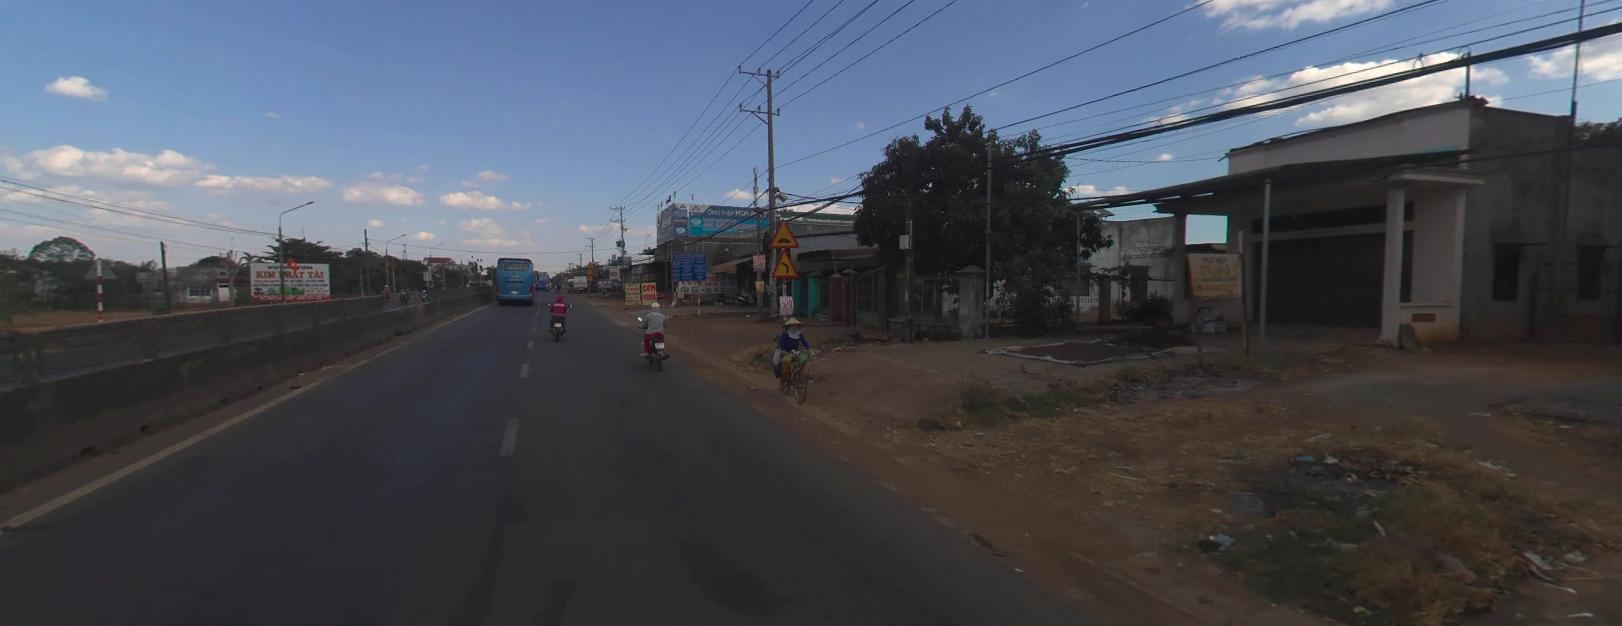Nguy hiem: (769, 218, 799, 247), (771, 249, 800, 276), (587, 260, 594, 266), (587, 273, 593, 279), (586, 267, 592, 272)
